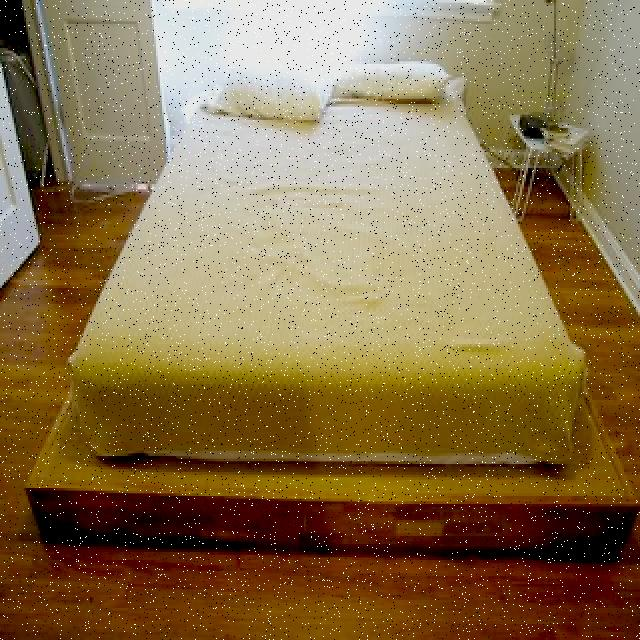bed: (54, 62, 601, 543)
